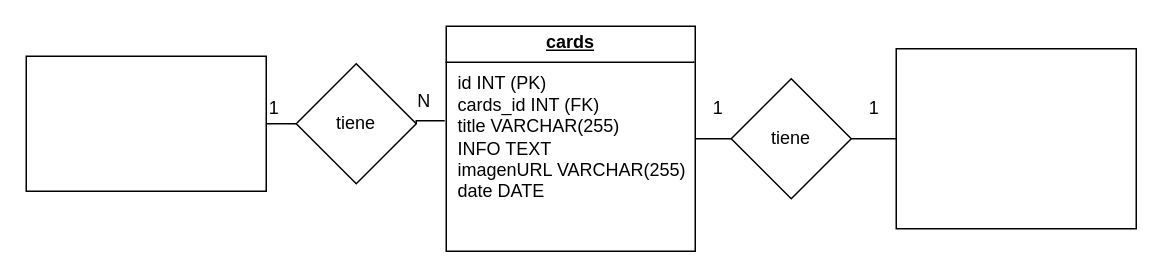
Image size: 1163x278. Some labels were removed from this diagram. Here are the shapes that lost their labels. From the top down, the box of each, then its label:
(25, 55, 266, 191): Usuario id INT (PK) nombre VARCHAR(100) contraseña VARCHAR(255)
(895, 47, 1136, 229): Tabla id INT (PK) cards_id INT (FK) datos TEXT fecha_guardado DATE
